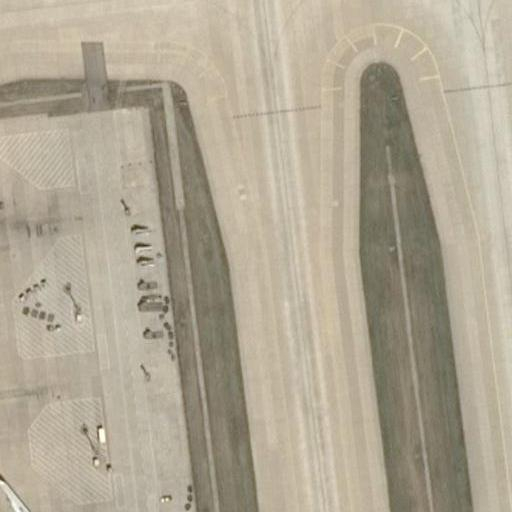Aircraft: (0, 474, 97, 512)
